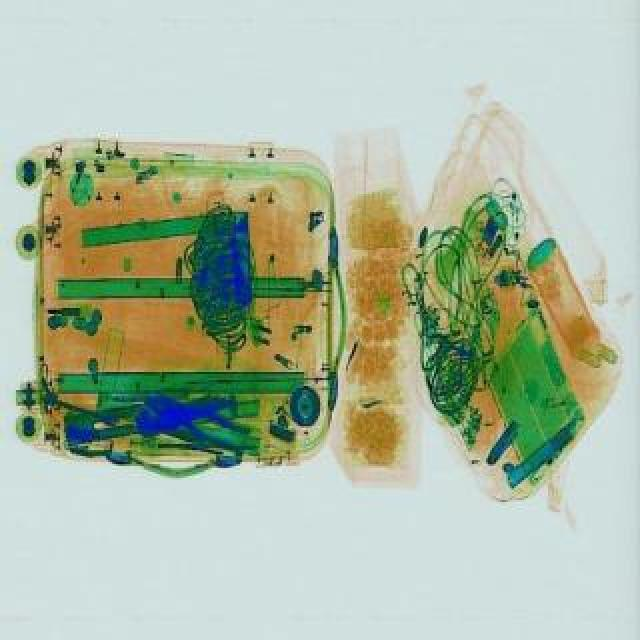wrench: (140, 386, 256, 452)
